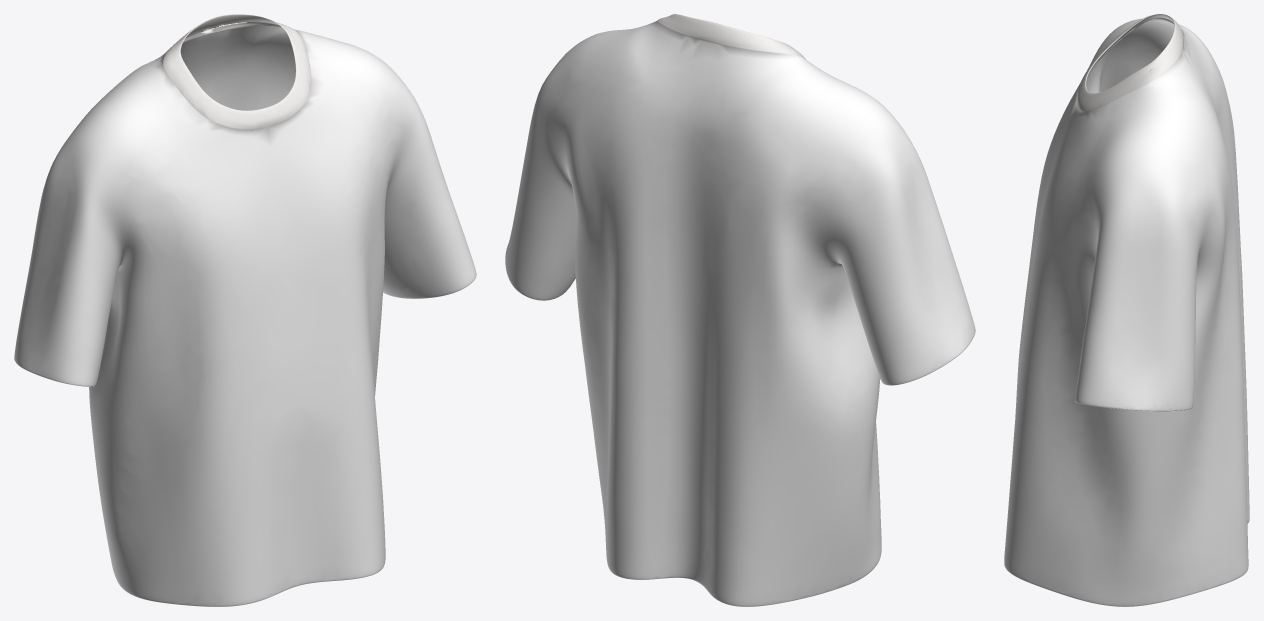
The model's file is camiseta-basica.glb.
The picture shows the model from 3 angles, left to right: view 1: azimuth 30°, elevation 25°; view 2: azimuth 150°, elevation 25°; view 3: azimuth 270°, elevation 25°; orthographic projection. The views are drawn at different scales.
Parts seen in each view (by area): view 1: T-Shirt; view 2: T-Shirt; view 3: T-Shirt.
Part boxes in pixels (x1,y1,x2,y2): T-Shirt: (14,14,476,606); T-Shirt: (505,14,975,606); T-Shirt: (1004,14,1249,606).
Size of the model in its own units: 0.9123 by 1.06 by 0.4489.
Materials: 1 (1 with a texture image).
